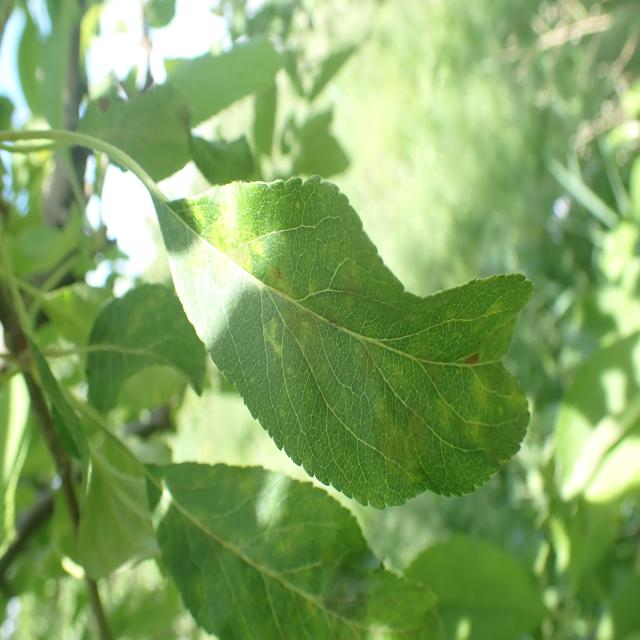scab: (189, 228, 549, 493)
